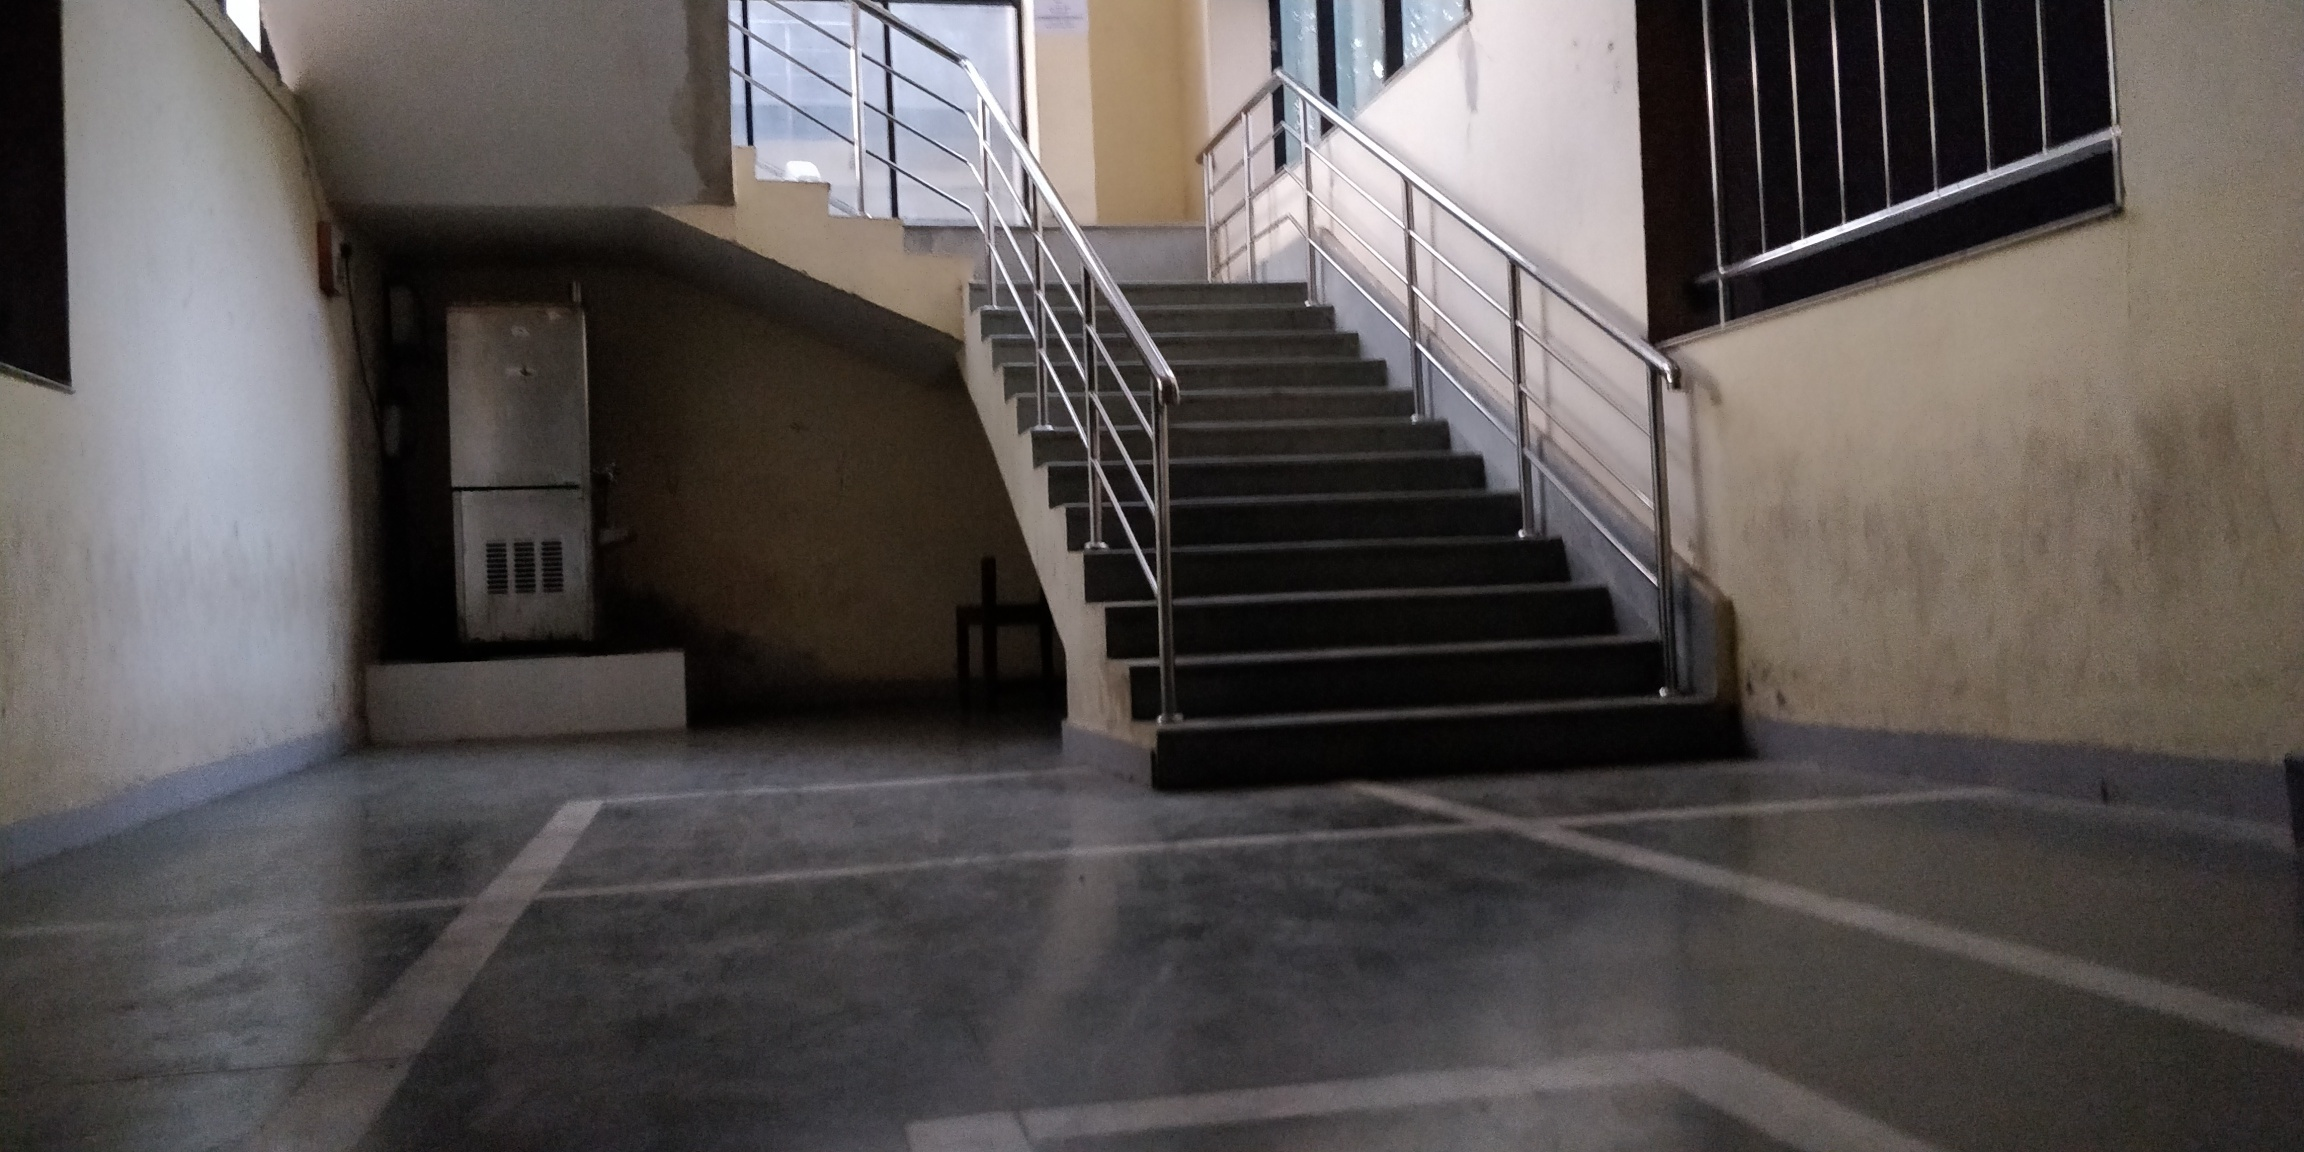stairs_up: (990, 278, 1682, 773)
